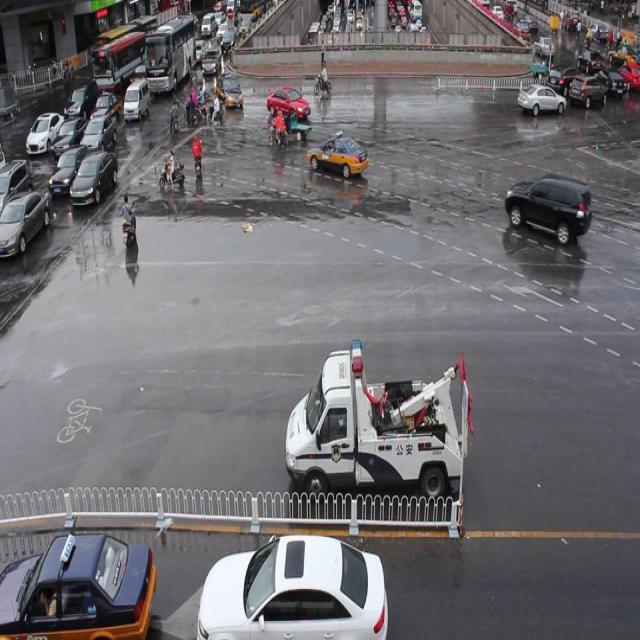bus: (285, 338, 464, 498)
car: (305, 134, 368, 179), (516, 81, 566, 116), (266, 85, 309, 121), (216, 74, 243, 110)
truck: (503, 172, 590, 242)
